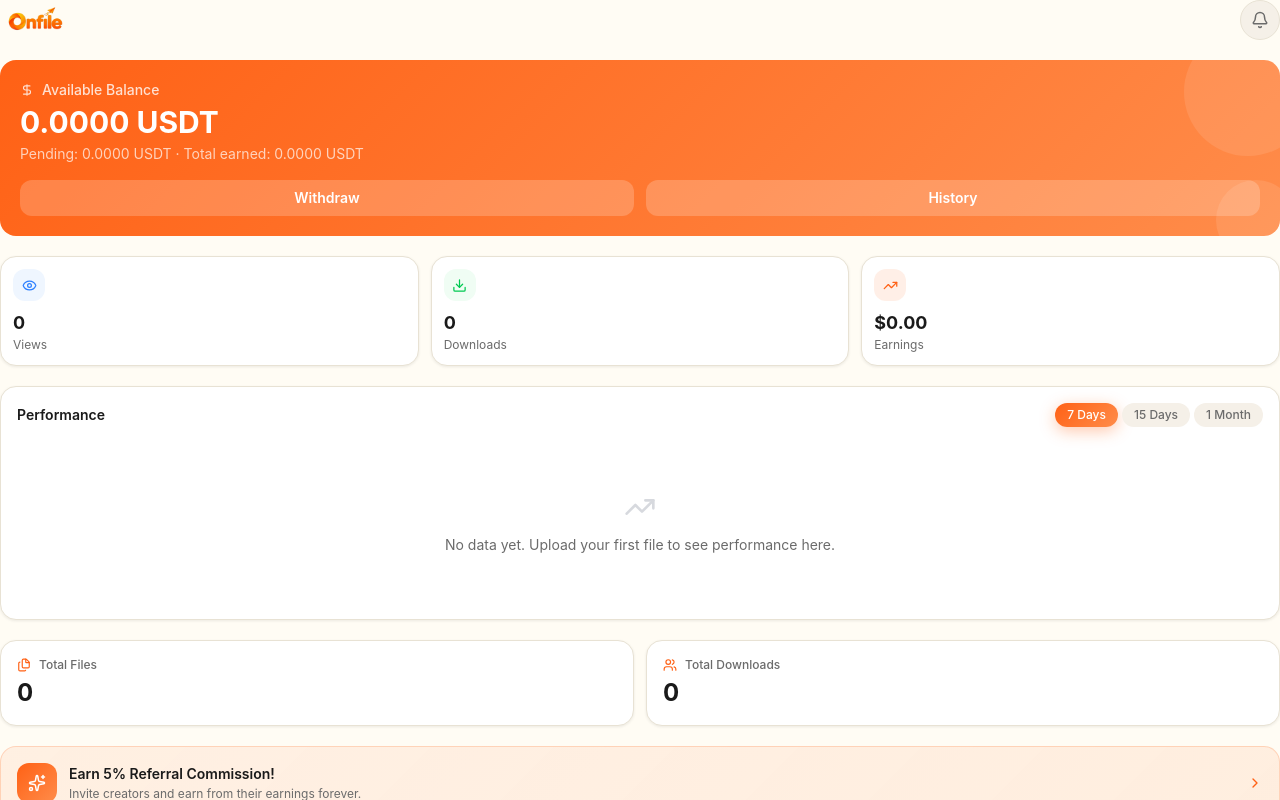
Notification screen › empty state
What coordinates should you click on to do the following:
click the button with test id "notifications-bell"
I would click on:
 (1260, 20)
Its box is [1240,0,1279,40].
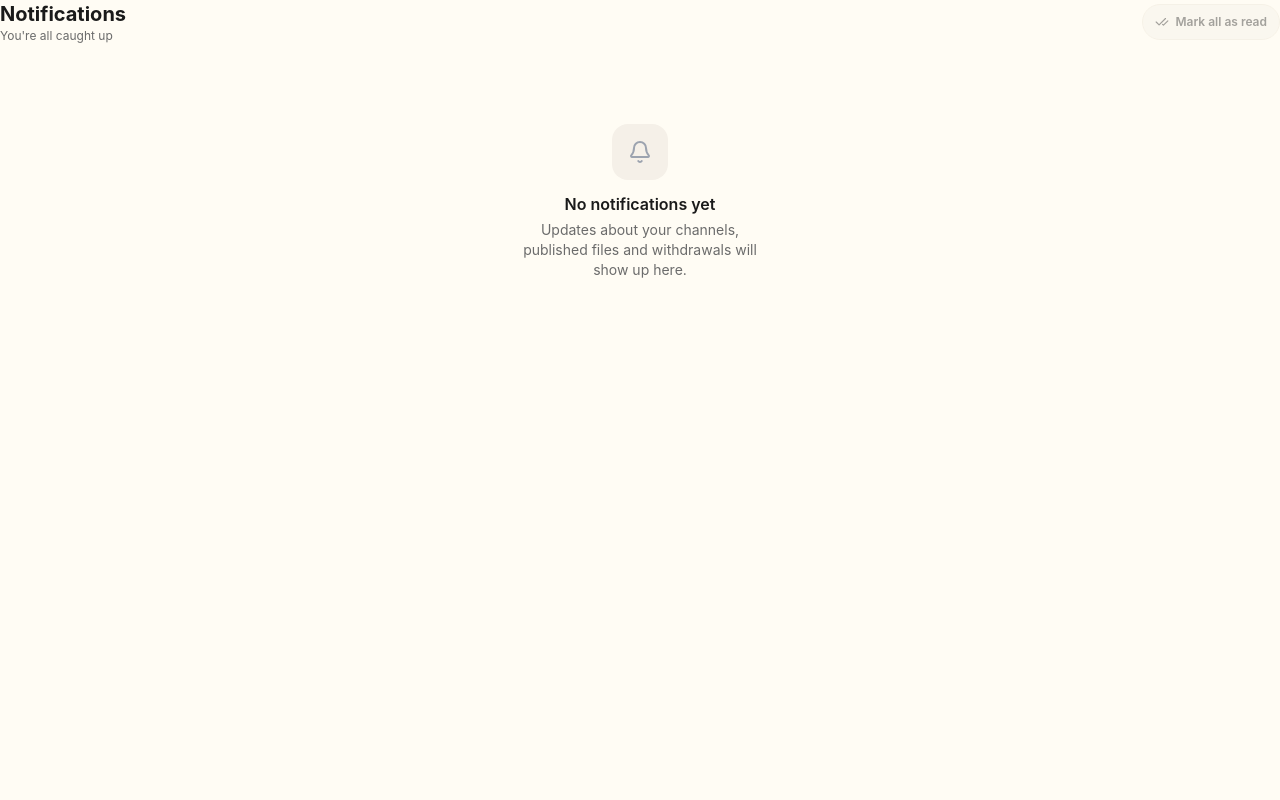
Result: the element with test id "notifications-empty" shows "No notifications yet" at [565,194,716,214]
Result: the button with test id "notifications-mark-all" is disabled at [1142,4,1279,40]
